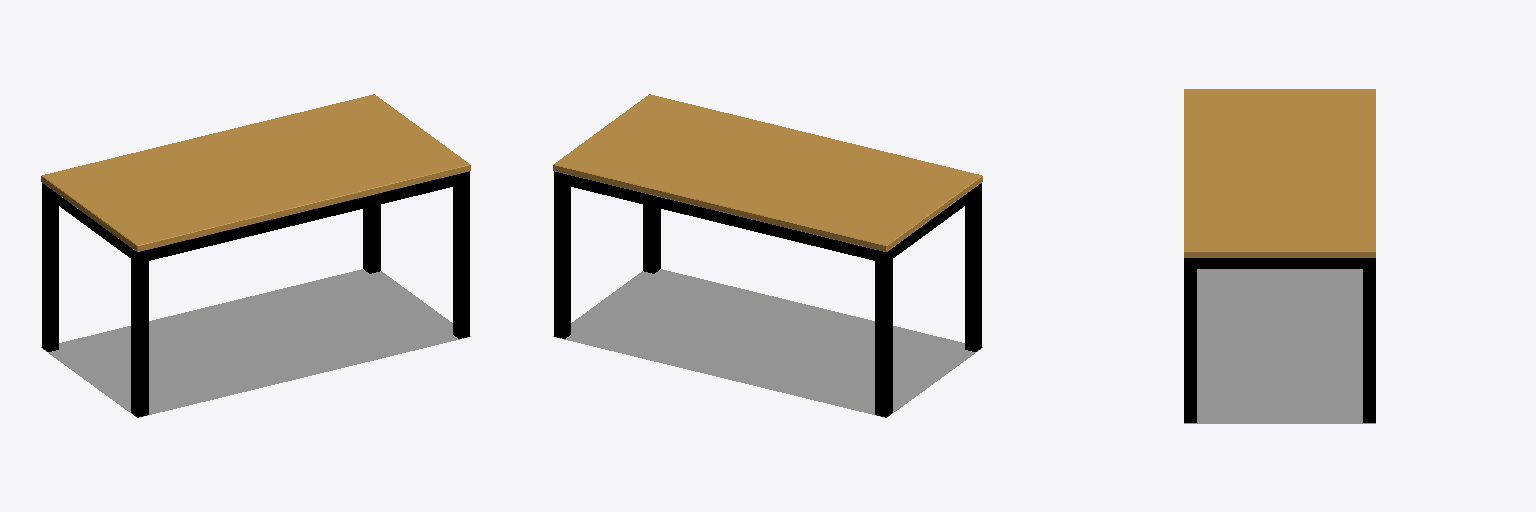
File: mesa.obj
3 views of the same model, side by side, from view 1: azimuth 30°, elevation 25°; view 2: azimuth 150°, elevation 25°; view 3: azimuth 270°, elevation 25° (orthographic).
Visible parts, largest first — view 1: Table_4, ground_1, Feet_3, Frame_2; view 2: Table_4, ground_1, Feet_3, Frame_2; view 3: Table_4, ground_1, Feet_3, Frame_2.
Boxes of the visible parts, box(x1,y1,x2,y2) form: Table_4: box(41, 94, 470, 251); ground_1: box(41, 269, 470, 417); Feet_3: box(42, 171, 469, 417); Frame_2: box(49, 174, 458, 260); Table_4: box(553, 94, 982, 251); ground_1: box(553, 269, 982, 417); Feet_3: box(554, 171, 981, 417); Frame_2: box(565, 174, 974, 260); Table_4: box(1184, 89, 1375, 257); ground_1: box(1184, 269, 1375, 423); Feet_3: box(1184, 258, 1375, 422); Frame_2: box(1197, 258, 1362, 268).
Bounding box in the file's own units: 150 × 74 × 75.